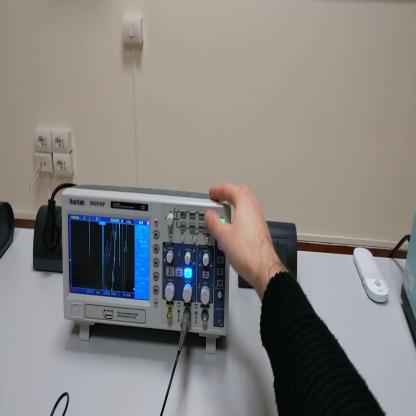hand: (204, 182, 274, 285)
oscilloscope: (62, 187, 231, 357)
socket: (32, 206, 63, 275), (2, 201, 16, 263)
welder station: (400, 215, 416, 344)
